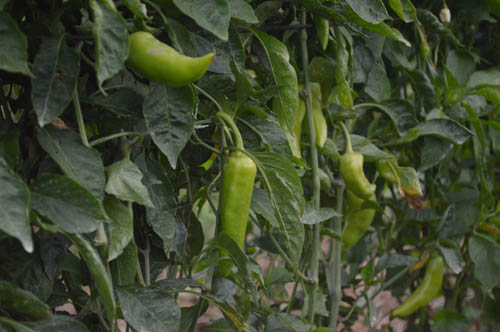ChiliPepper: (126, 31, 215, 92), (217, 158, 259, 276), (391, 254, 445, 321), (341, 188, 375, 260), (269, 96, 309, 157), (339, 152, 375, 199), (309, 108, 330, 147)
